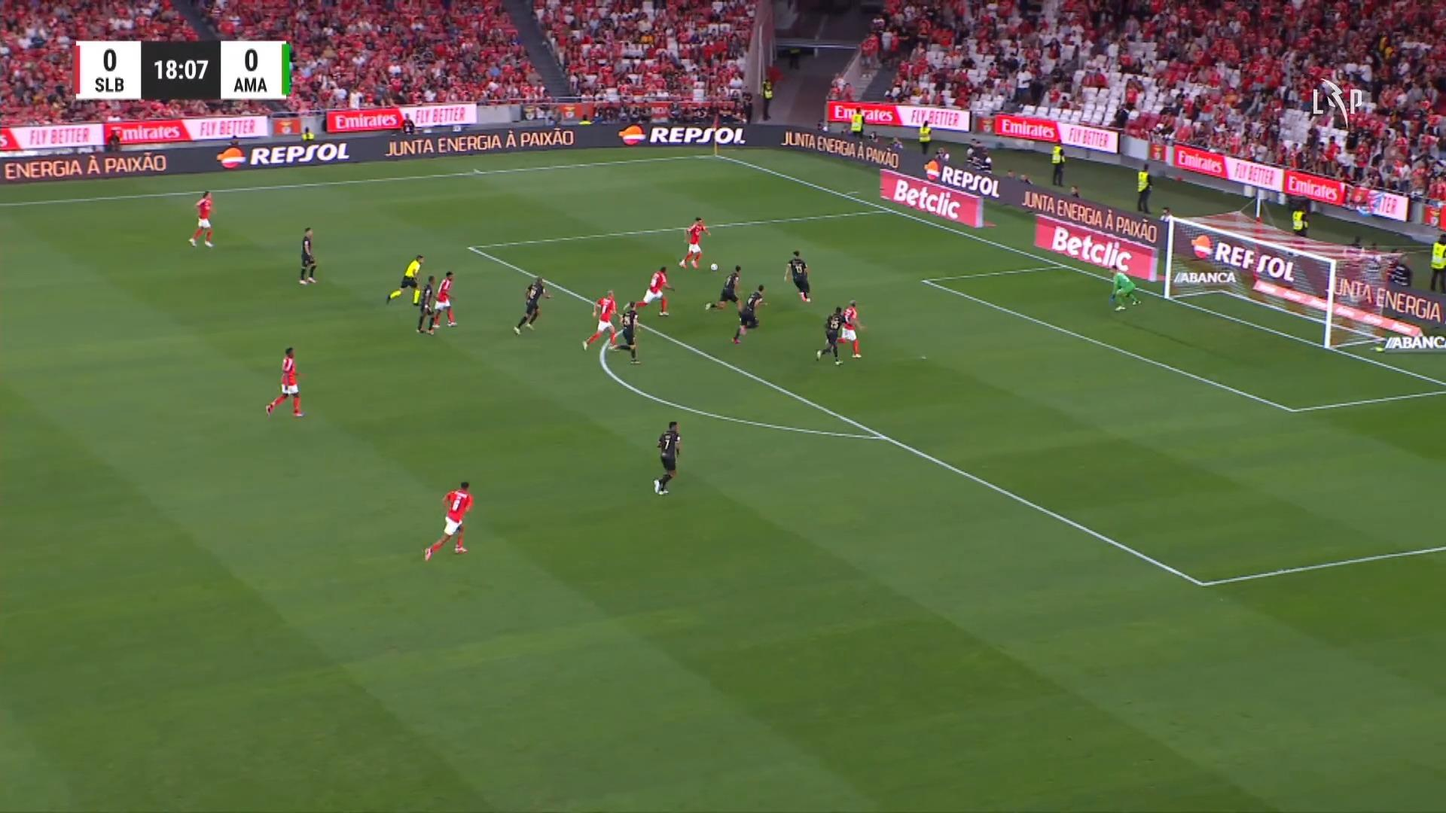ball: (709, 263, 718, 271)
goalkeeper: (1109, 264, 1140, 311)
player: (423, 480, 474, 561), (264, 346, 306, 417), (581, 289, 619, 352), (512, 276, 551, 336), (652, 420, 682, 495), (731, 283, 767, 345), (634, 265, 675, 316), (704, 264, 742, 310), (836, 299, 865, 359), (429, 270, 458, 330), (678, 215, 710, 269), (815, 306, 844, 365), (188, 190, 215, 248), (783, 249, 812, 303), (617, 300, 641, 364), (415, 274, 437, 335), (297, 227, 318, 285)
referee: (385, 253, 424, 306)
